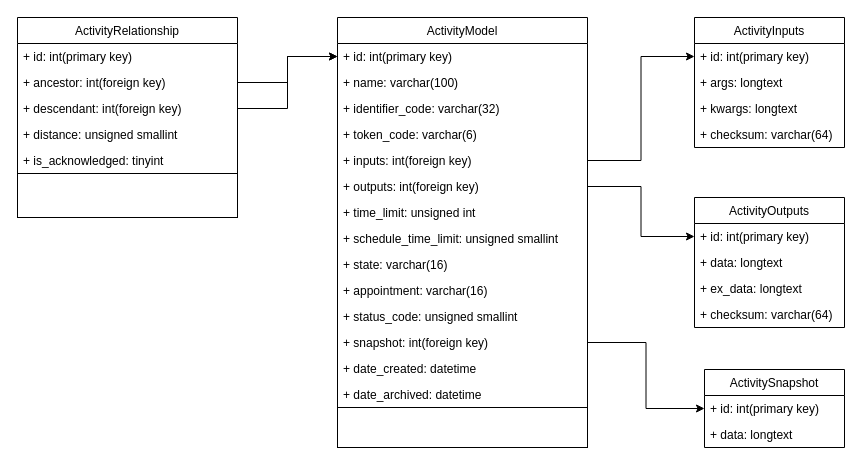
Image size: 862x468. Some labels were removed from this diagram. The shapes that lost their labels are listed below. From the top down, each one's centre as x and y in pixels, then its label:
(127,195): + UNIQUE KEY(ancestor, descendant) + UNIQUE KEY(descendant, distance)
(462,427): + UNIQUE KEY(identifier_code, token_code)
